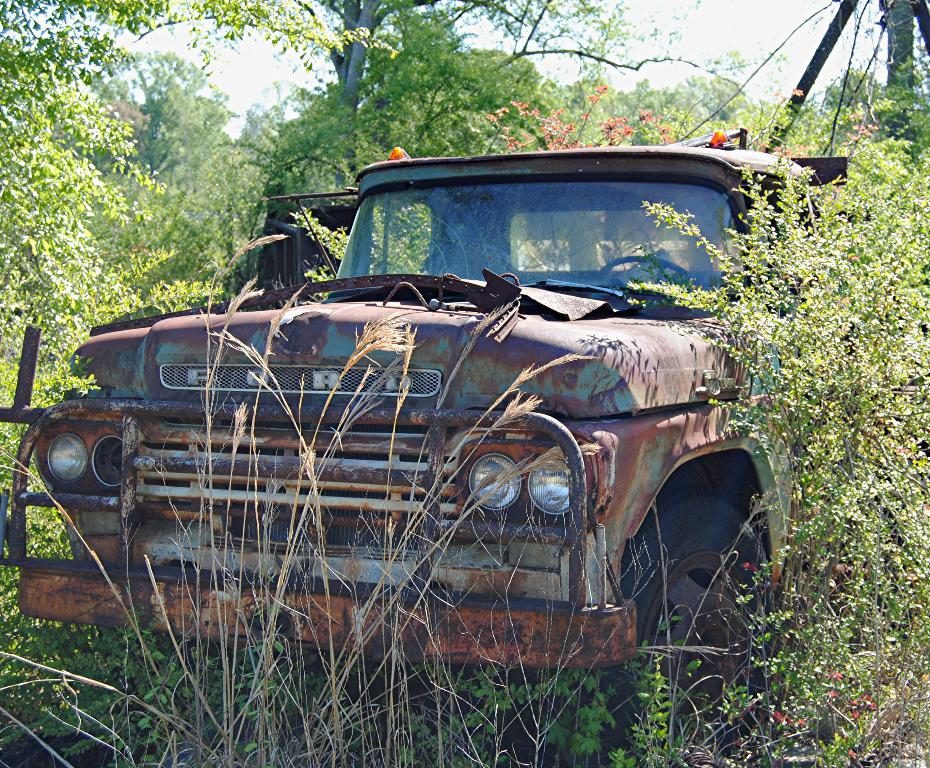Car: (34, 123, 840, 693)
